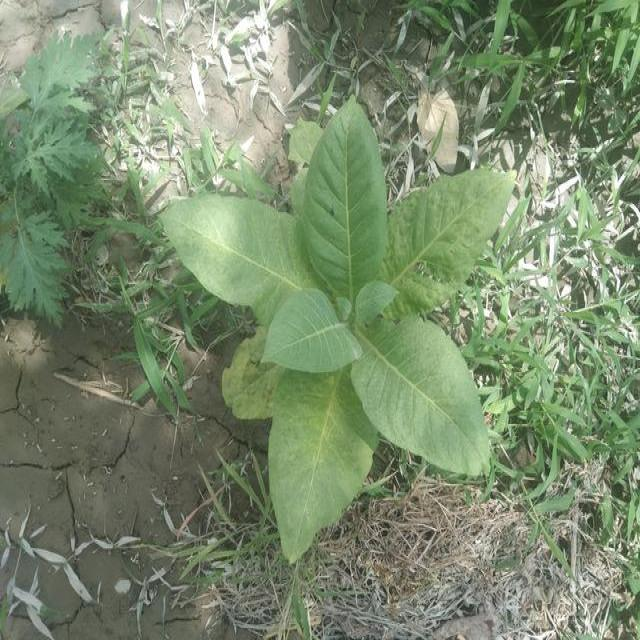crop: (168, 101, 522, 550)
